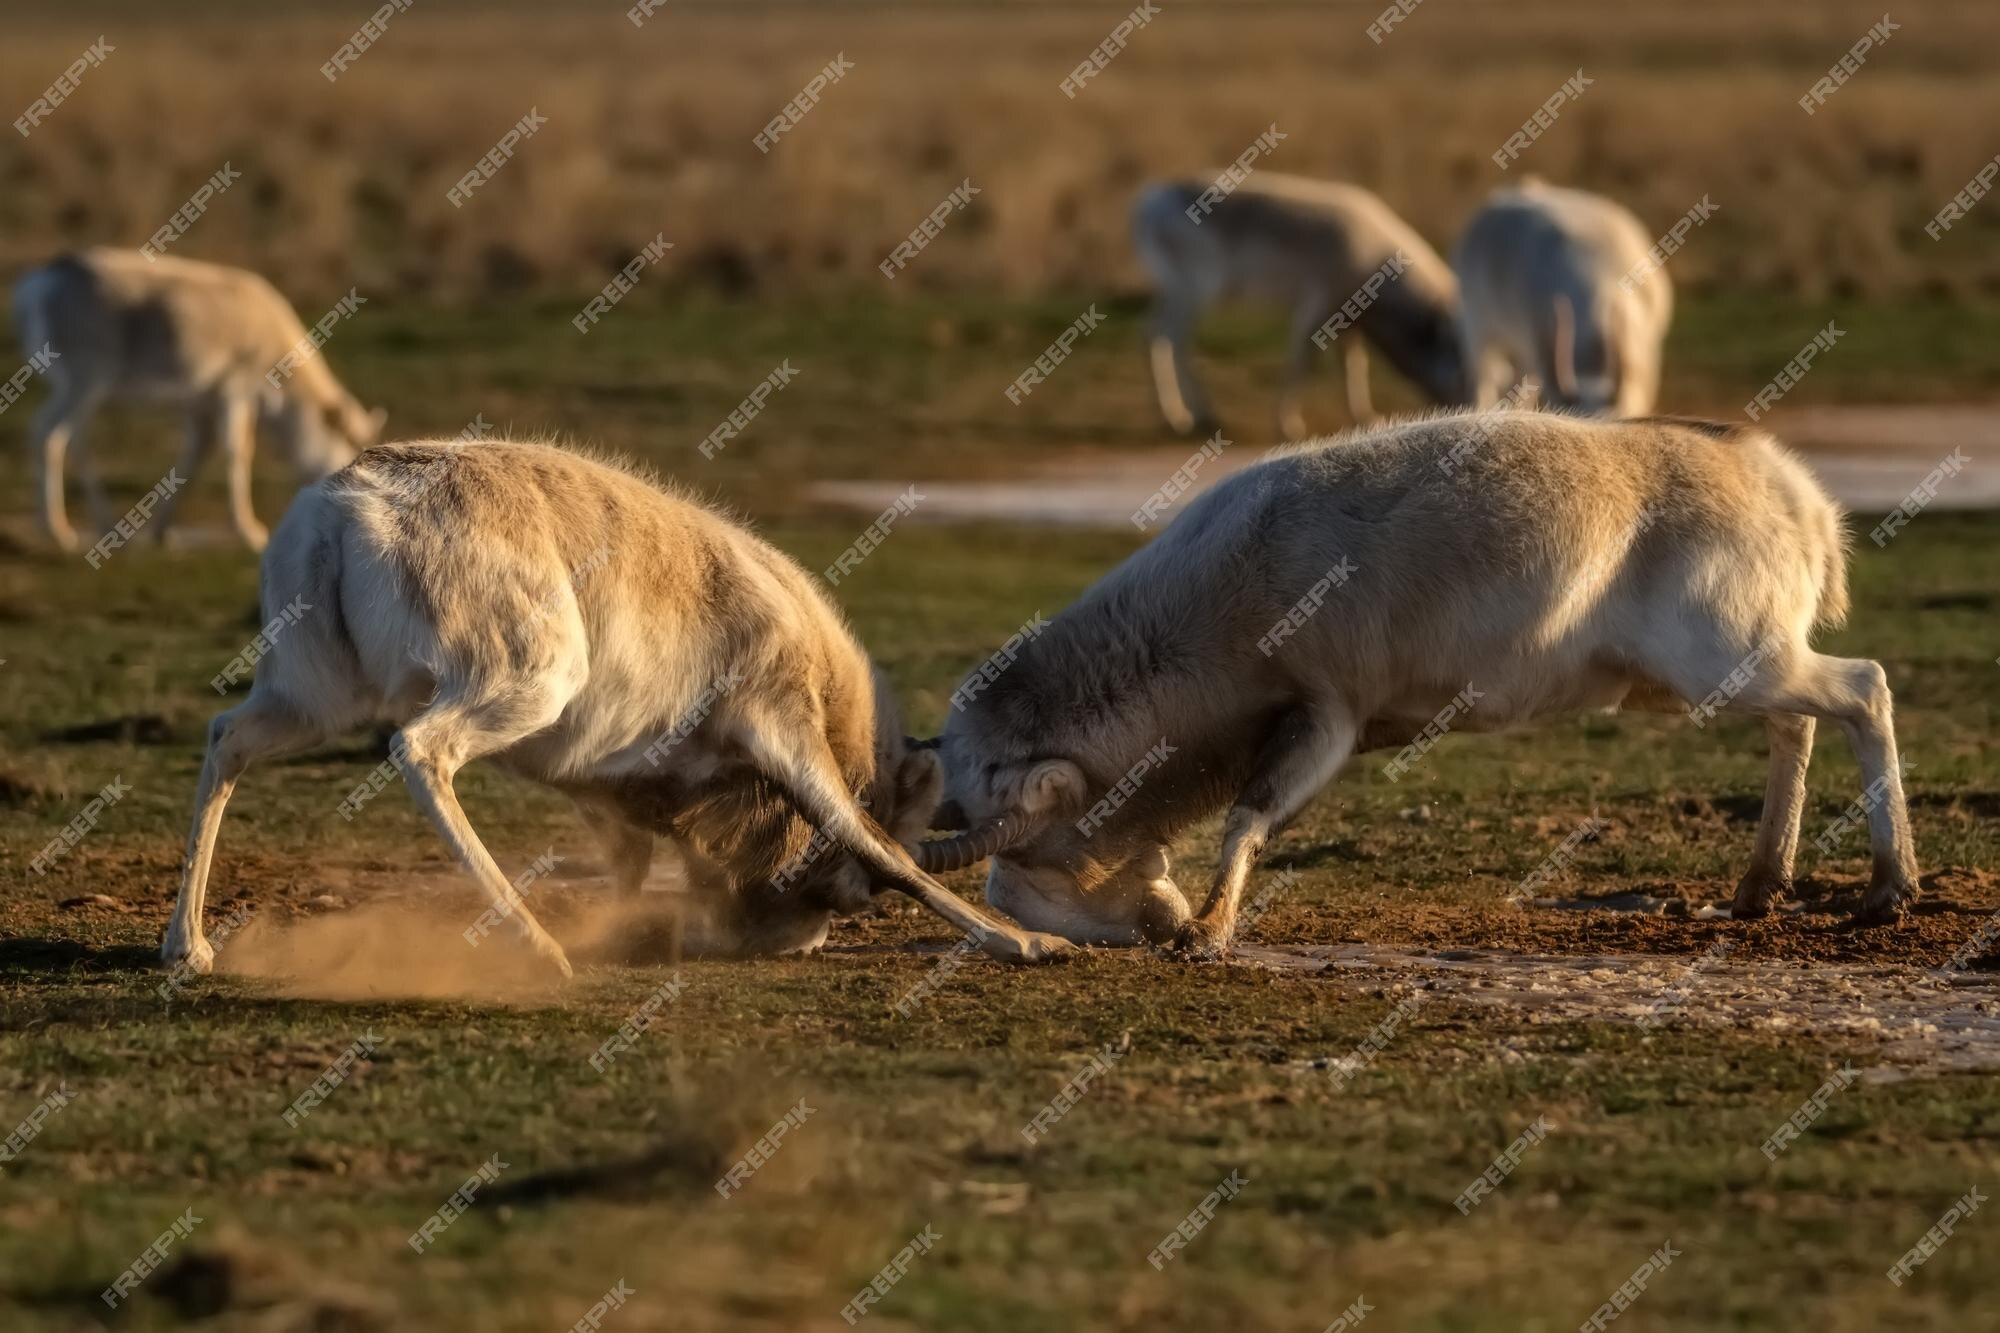saiga: (140, 414, 1069, 1001)
